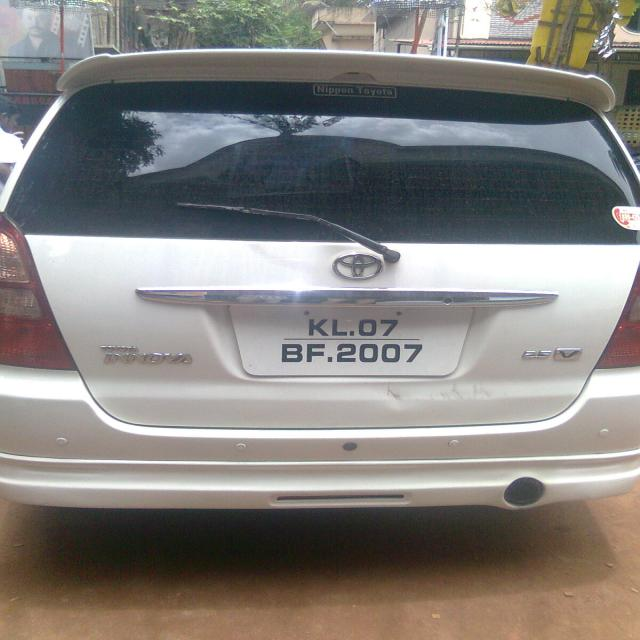license-plate: (226, 304, 477, 374)
